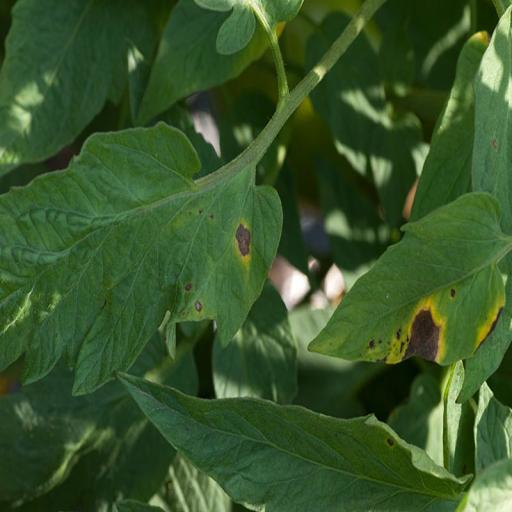Early Blight: (0, 117, 282, 399), (309, 182, 512, 370)
